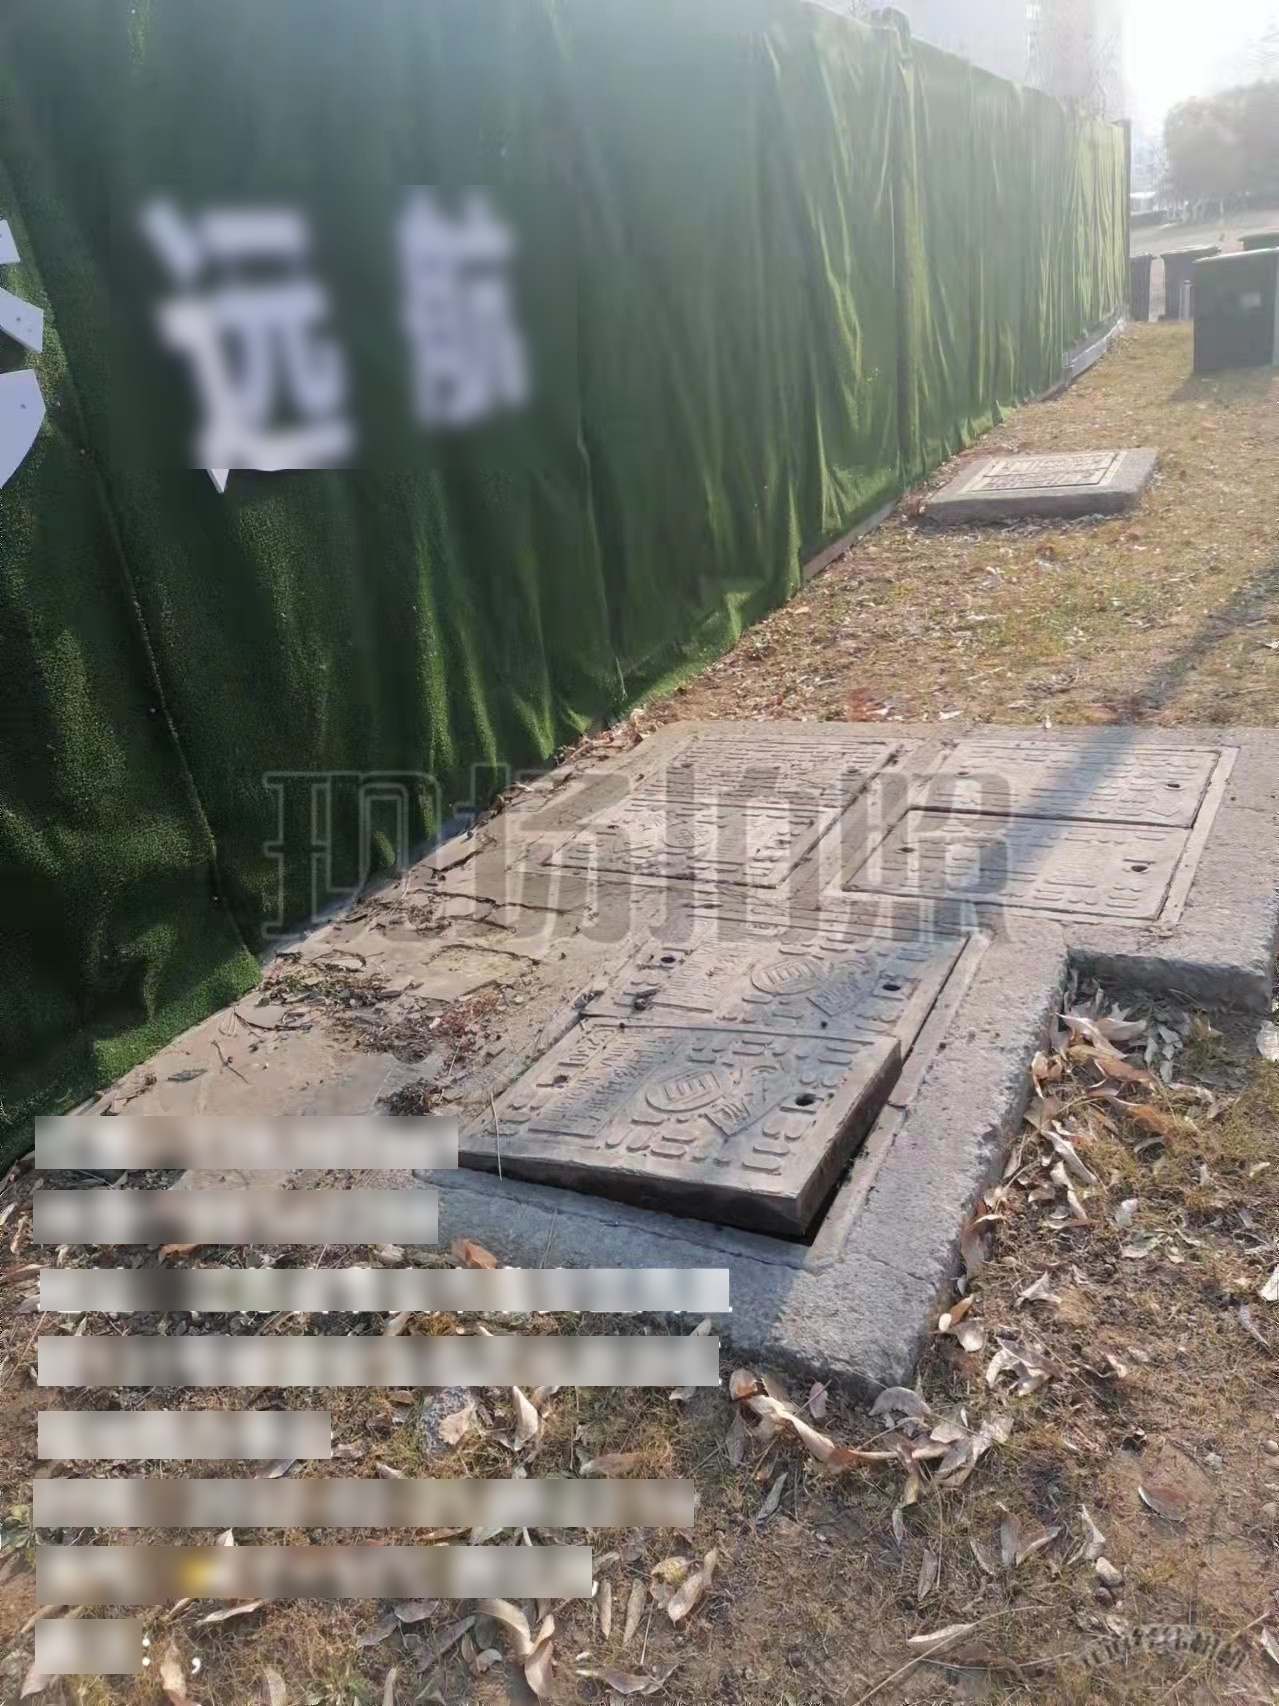good: (830, 731, 1237, 922), (525, 731, 908, 892), (961, 450, 1129, 493)
uncovered: (412, 912, 993, 1277)
